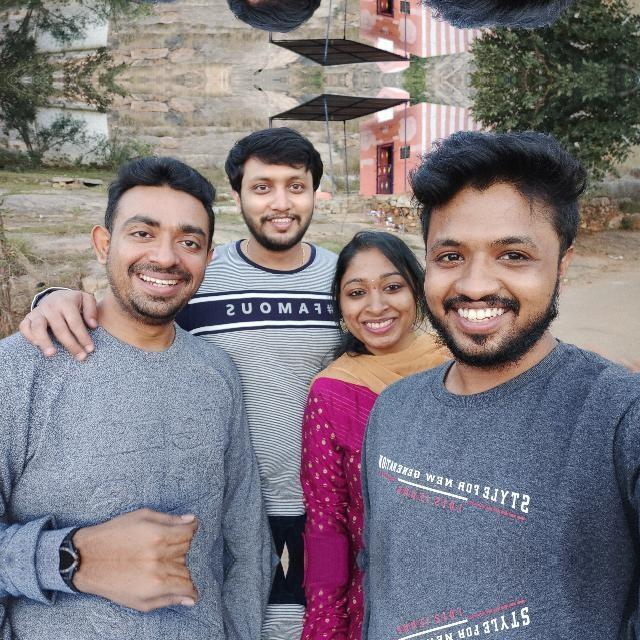person: (408, 121, 602, 402), (68, 153, 218, 360), (220, 120, 330, 268), (324, 230, 422, 370), (408, 0, 601, 38), (220, 0, 330, 40), (67, 0, 218, 7)
